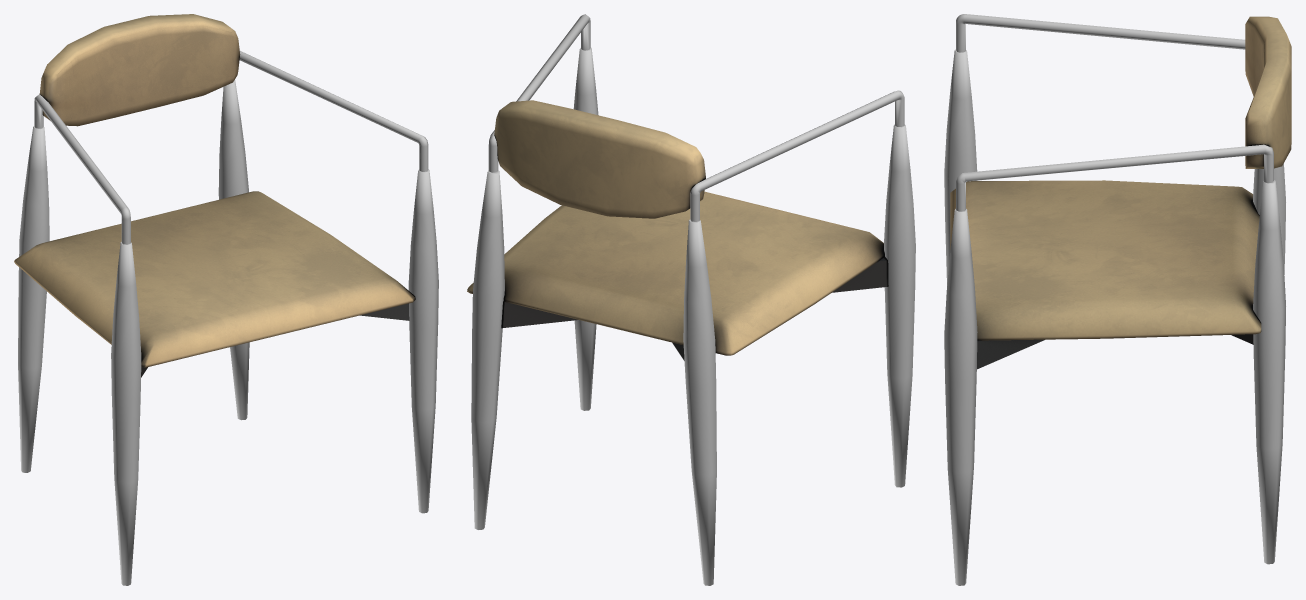
Rendered from Dracut Arm Chair.fbx.
3 renders of one model, left to right at view 1: azimuth 30°, elevation 25°; view 2: azimuth 150°, elevation 25°; view 3: azimuth 270°, elevation 25°, orthographic. The views are drawn at different scales.
Parts seen in each view (by area): view 1: Dracut Arms chair; view 2: Dracut Arms chair; view 3: Dracut Arms chair.
Part boxes in pixels (<box>): Dracut Arms chair: <box>14,14,438,585</box>; Dracut Arms chair: <box>467,14,915,585</box>; Dracut Arms chair: <box>944,14,1291,585</box>.
Bounding box in the file's own units: 0.7461 × 0.9216 × 0.6342.
